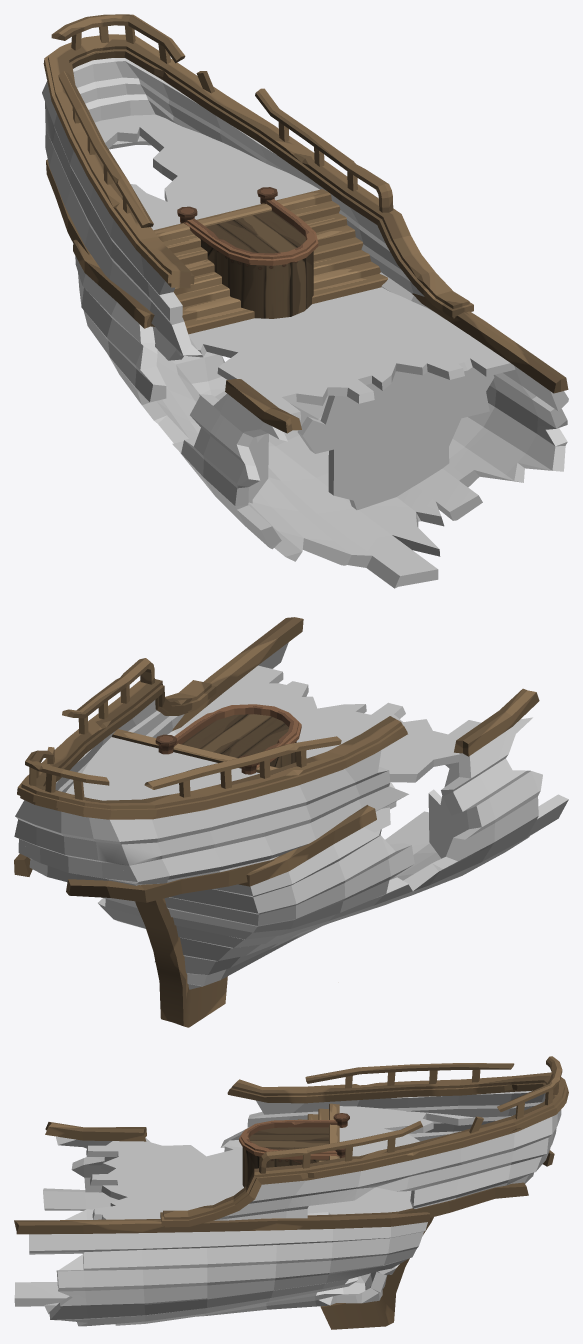
Rendered from SM_Prop_Wreck_Small_Back_01.fbx.
The picture shows the model from 3 angles, top to bottom: view 1: azimuth 30°, elevation 25°; view 2: azimuth 150°, elevation 25°; view 3: azimuth 270°, elevation 25°; orthographic projection. The views are drawn at different scales.
Parts seen in each view (by area): view 1: SM_Prop_Wreck_Small_Back_01; view 2: SM_Prop_Wreck_Small_Back_01; view 3: SM_Prop_Wreck_Small_Back_01.
Boxes of the visible parts, box(x1,y1,x2,y2) form: SM_Prop_Wreck_Small_Back_01: box(42, 14, 568, 588); SM_Prop_Wreck_Small_Back_01: box(14, 617, 568, 1027); SM_Prop_Wreck_Small_Back_01: box(14, 1056, 568, 1329).
Bounding box in the file's own units: 870 × 836 × 1634.
